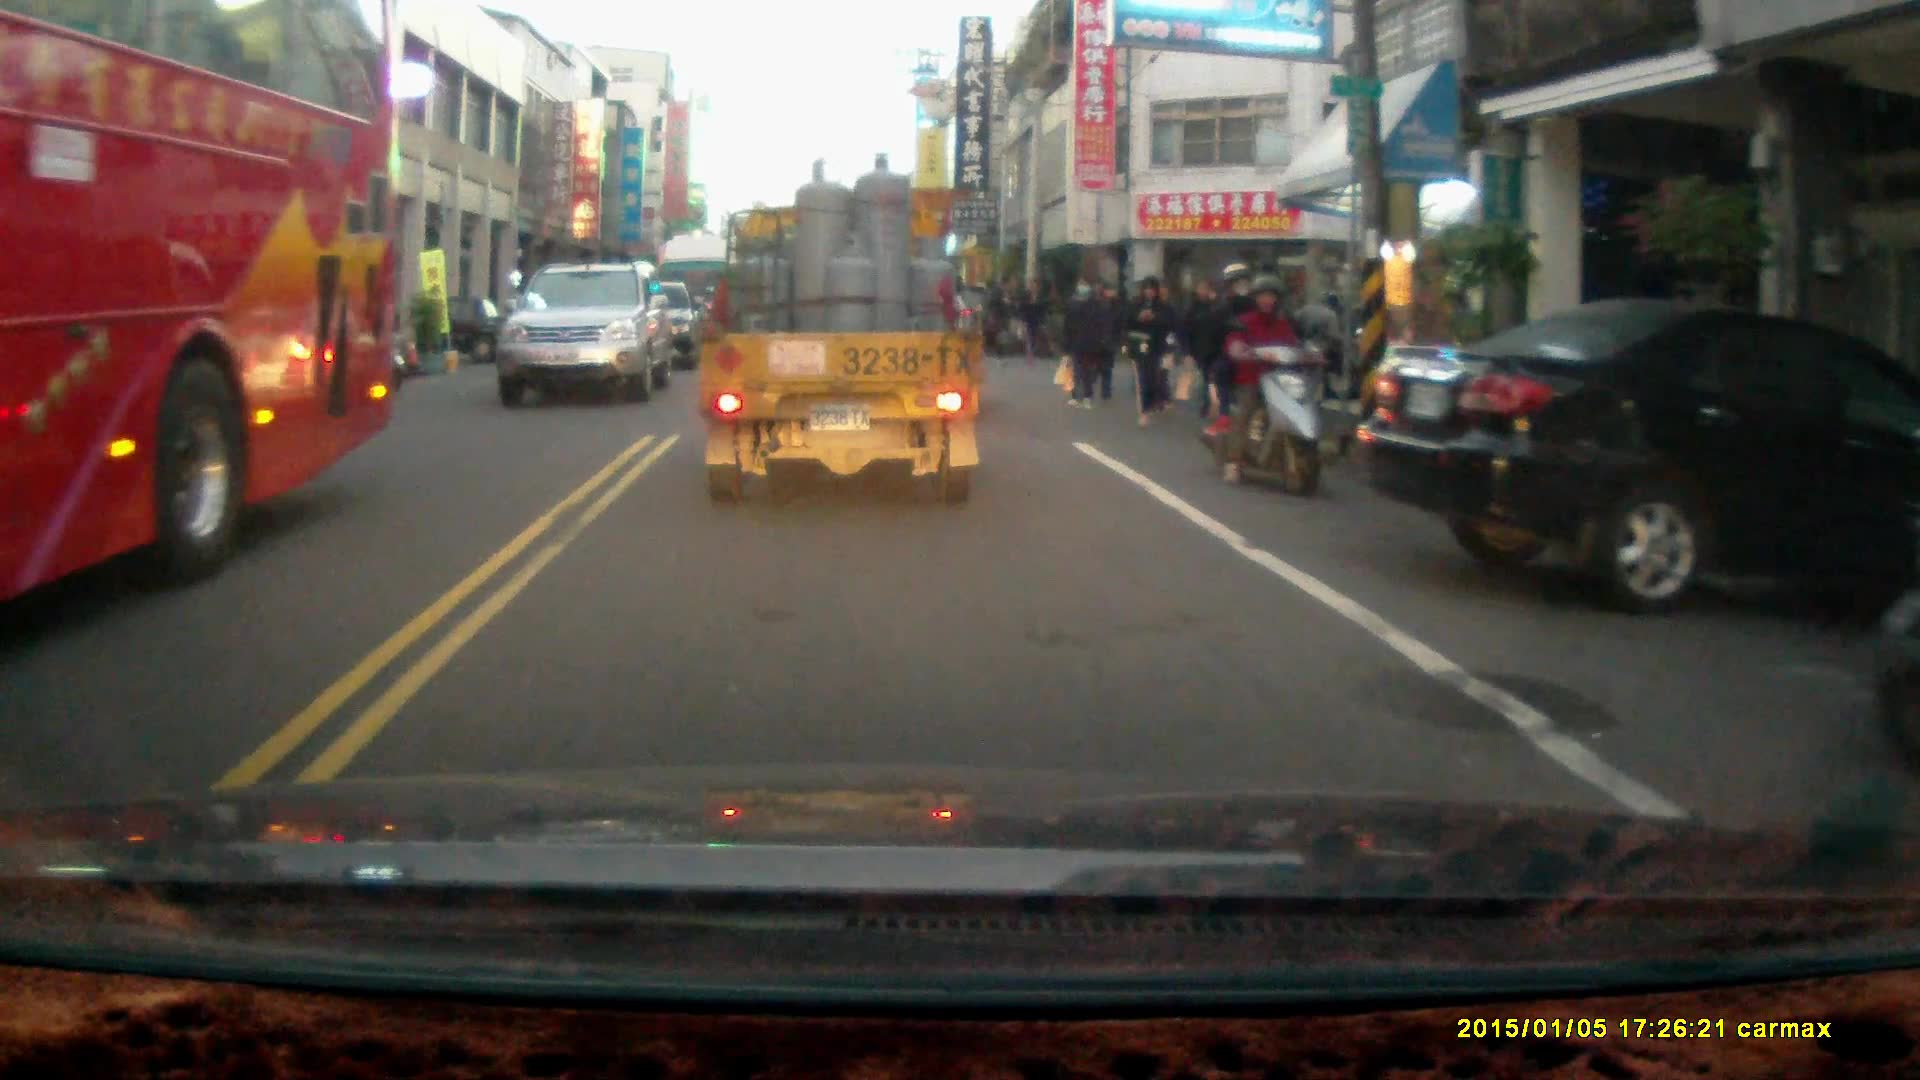pedestrian: (1175, 278, 1228, 426), (1131, 269, 1175, 425), (1058, 274, 1105, 411), (1084, 283, 1123, 402), (1017, 275, 1048, 364), (991, 275, 1021, 362)
rider: (1191, 261, 1317, 493)
vehicle: (1, 7, 399, 608), (1362, 302, 1920, 620), (702, 154, 990, 511), (499, 264, 678, 412)
